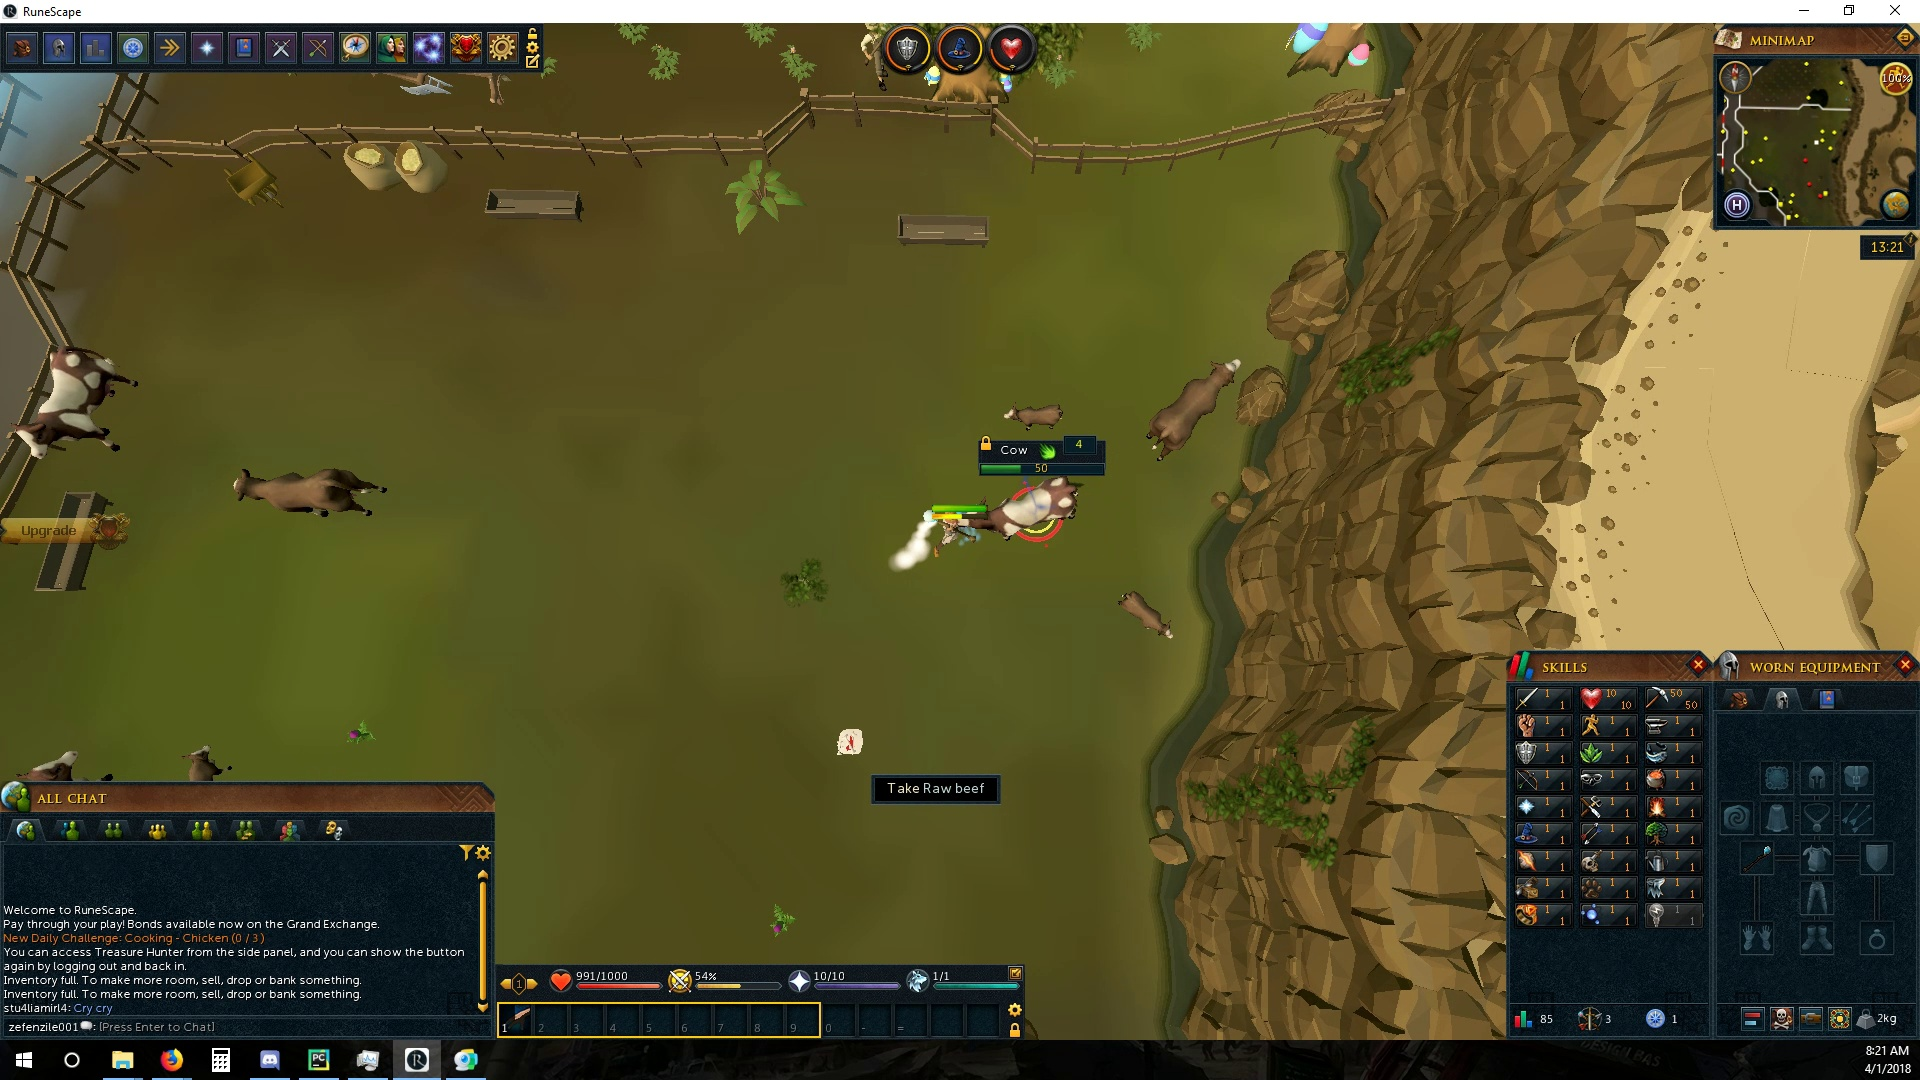calf: (1116, 591, 1180, 644), (997, 404, 1065, 436)
cow: (11, 345, 138, 465), (1139, 353, 1245, 460), (227, 463, 390, 521), (953, 476, 1087, 545)
cow_drop: (832, 727, 868, 757)
